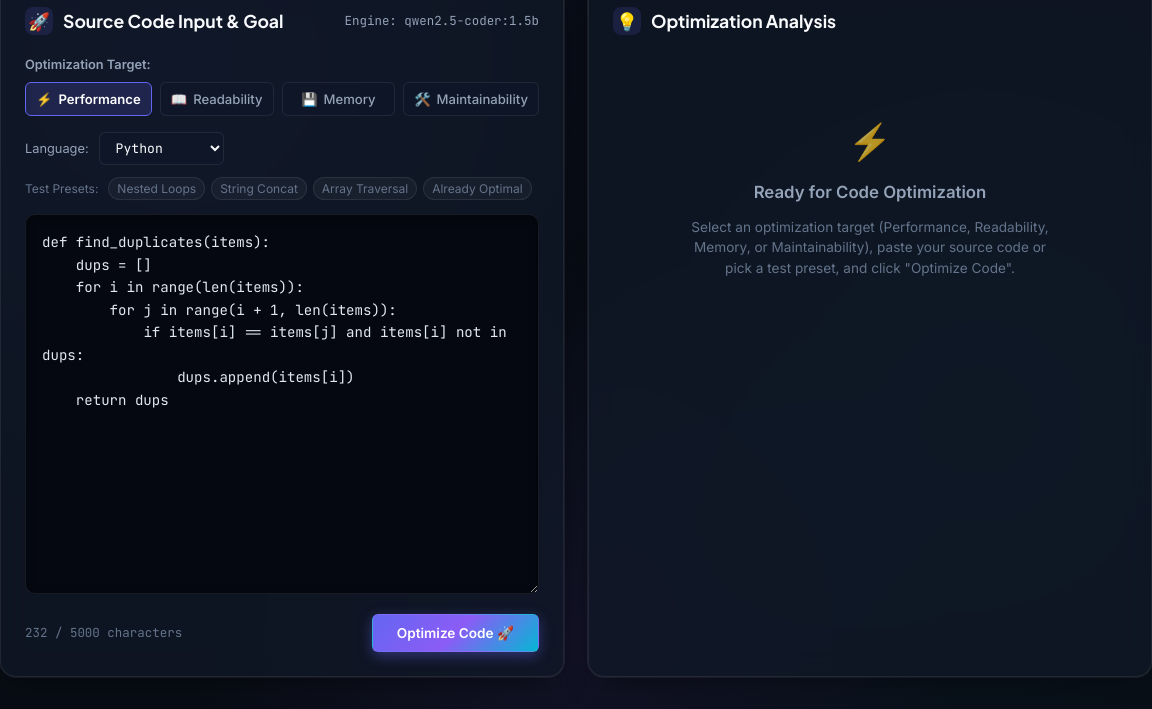
Test: CodeOptimizerView Feature Integration › submits code and renders structured optimization results, complexity, code comparison, and changes
(page scrolled)
Click the button named "Optimize Code with AI": (455, 633) [372,614,539,652]
(page scrolled)
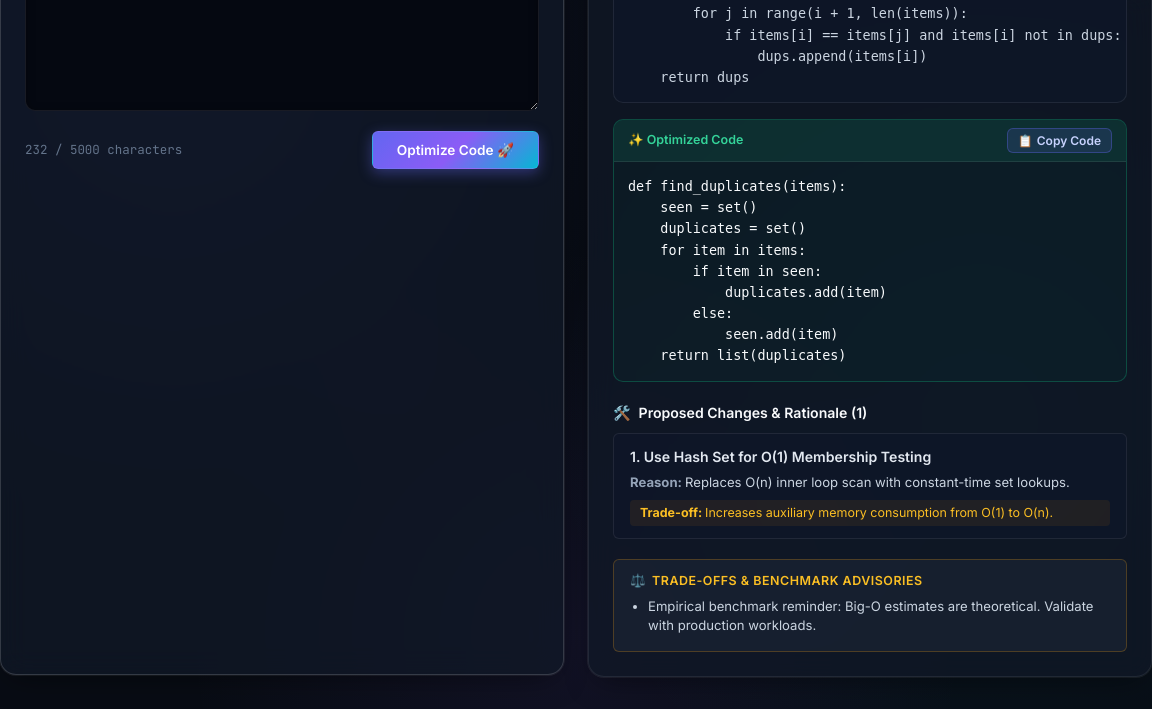
Check: the text "✨ Optimized Code" is shown, box [628,131,743,150]
Check: the text "1. Use Hash Set for O(1) Membership Testing" is shown, box [630,448,931,465]
Check: the text "Replaces O(n) inner loop scan with constant-time set lookups" is shown, box [685,474,1070,490]
